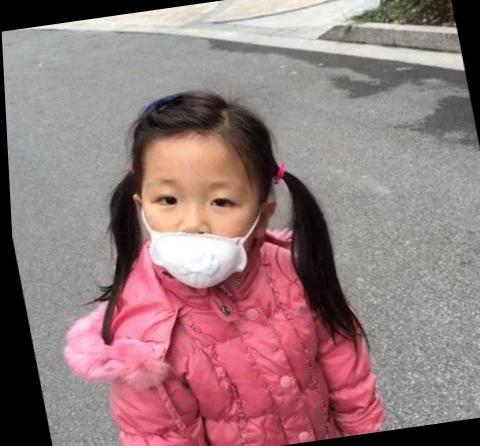WRONG: (131, 162, 269, 295)
